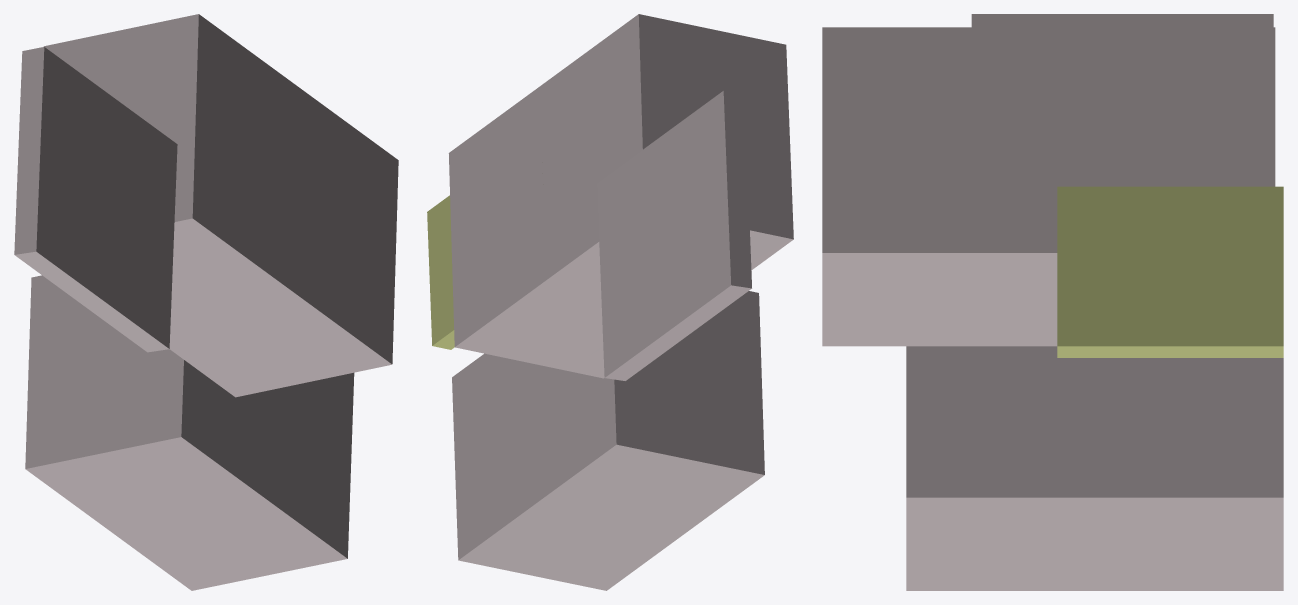
3 renders of one model, left to right at view 1: azimuth 30°, elevation 25°; view 2: azimuth 150°, elevation 25°; view 3: azimuth 270°, elevation 25°, orthographic. The views are drawn at different scales.
Parts seen in each view (by area): view 1: 0_2_1_3_0_0_3_1_1_3; view 2: 0_2_1_3_0_0_3_1_1_3; view 3: 0_2_1_3_0_0_3_1_1_3.
Part boxes in pixels (bbox=[...]): 0_2_1_3_0_0_3_1_1_3: bbox=[14, 14, 398, 590]; 0_2_1_3_0_0_3_1_1_3: bbox=[427, 14, 793, 590]; 0_2_1_3_0_0_3_1_1_3: bbox=[822, 14, 1283, 590].
Bounding box in the file's own units: 10.62 × 21.33 × 18.34.
